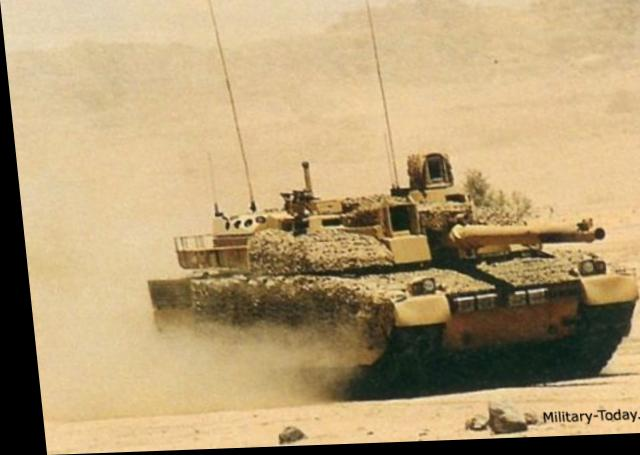tank: (132, 144, 640, 392)
